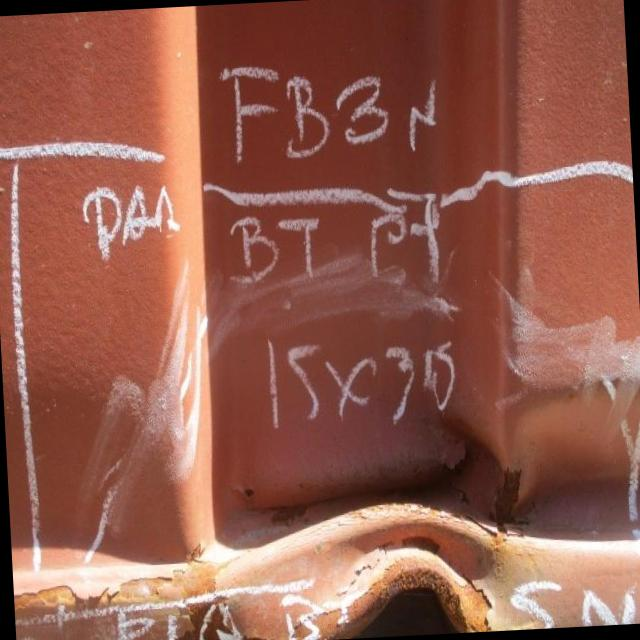Deframe_or_Dent: (17, 322, 640, 562)
